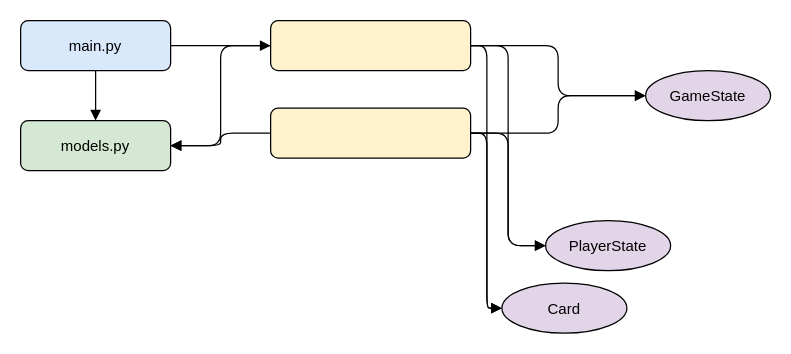
Image size: 791x354. Some labels were removed from this diagram. The centre of each missing label's shape, as x and y in pixels:
engine/game_engine.py: point 370,45
engine/state_machine.py: point 370,132
